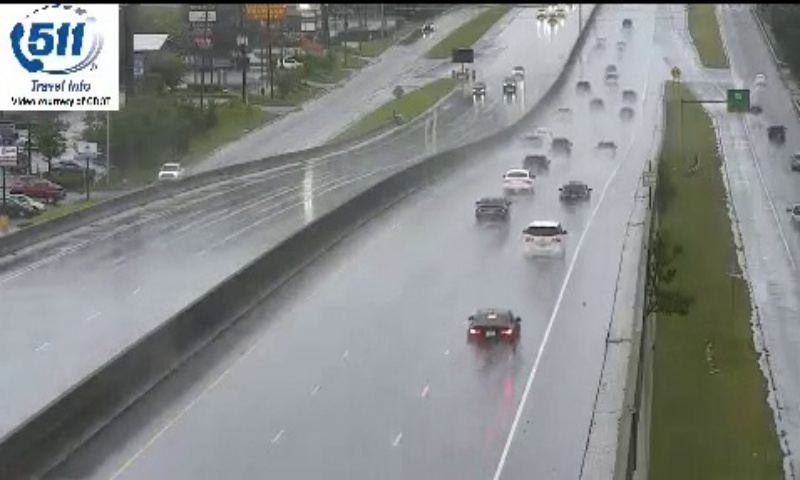car: (468, 310, 522, 346), (522, 220, 565, 259), (475, 196, 512, 222), (503, 169, 533, 196), (559, 180, 590, 205)
